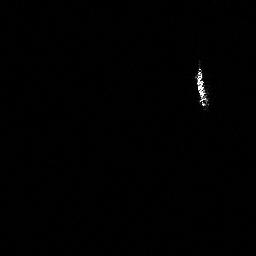ship: (191, 64, 211, 108)
